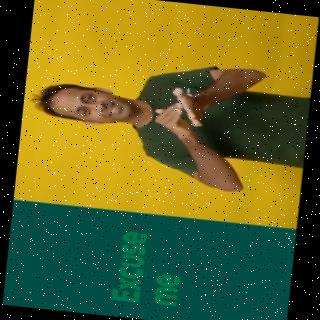ExcuseMe: (33, 46, 310, 196)
